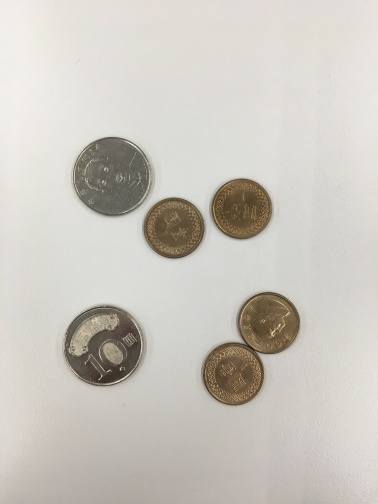1 dollar: (191, 330, 276, 413), (233, 282, 312, 361), (208, 174, 283, 245), (137, 191, 212, 261)
10 dollar: (55, 297, 156, 398), (65, 133, 158, 222)
